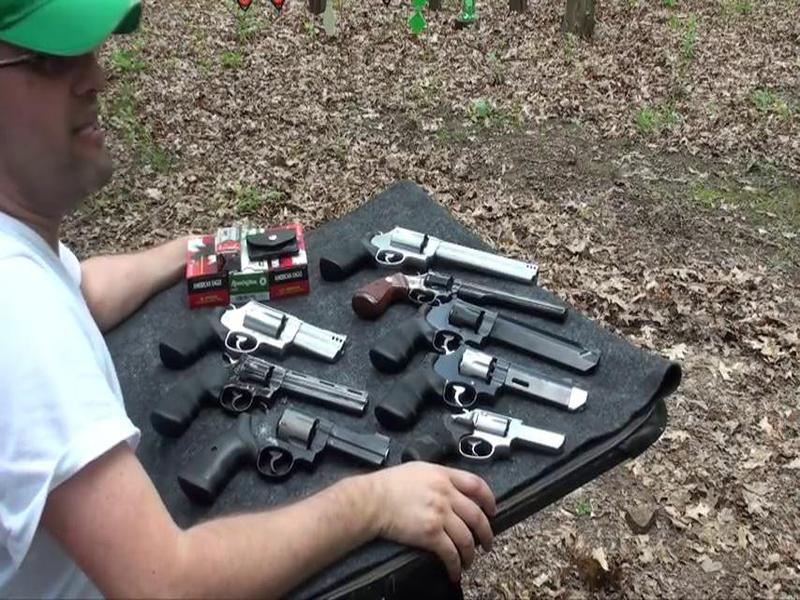Revolver: (364, 261, 591, 331)
